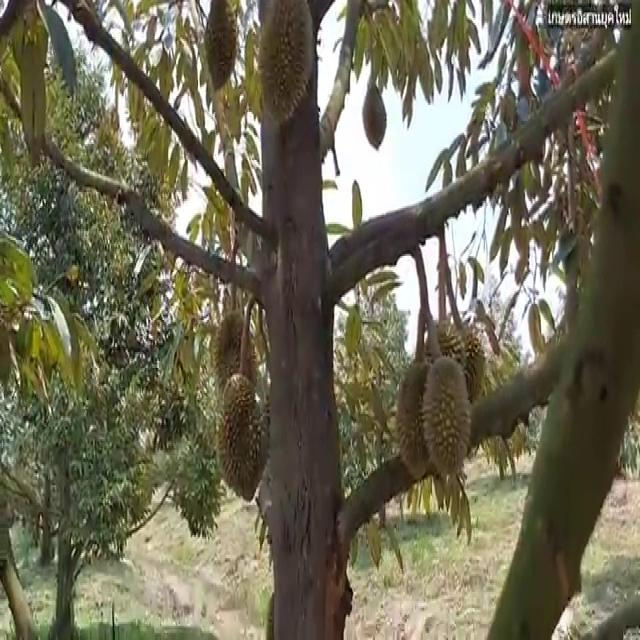durian: (253, 1, 317, 132), (213, 369, 272, 506), (392, 348, 442, 486), (422, 349, 473, 484), (210, 302, 260, 427), (440, 316, 486, 416), (202, 1, 240, 96), (358, 76, 388, 154)
